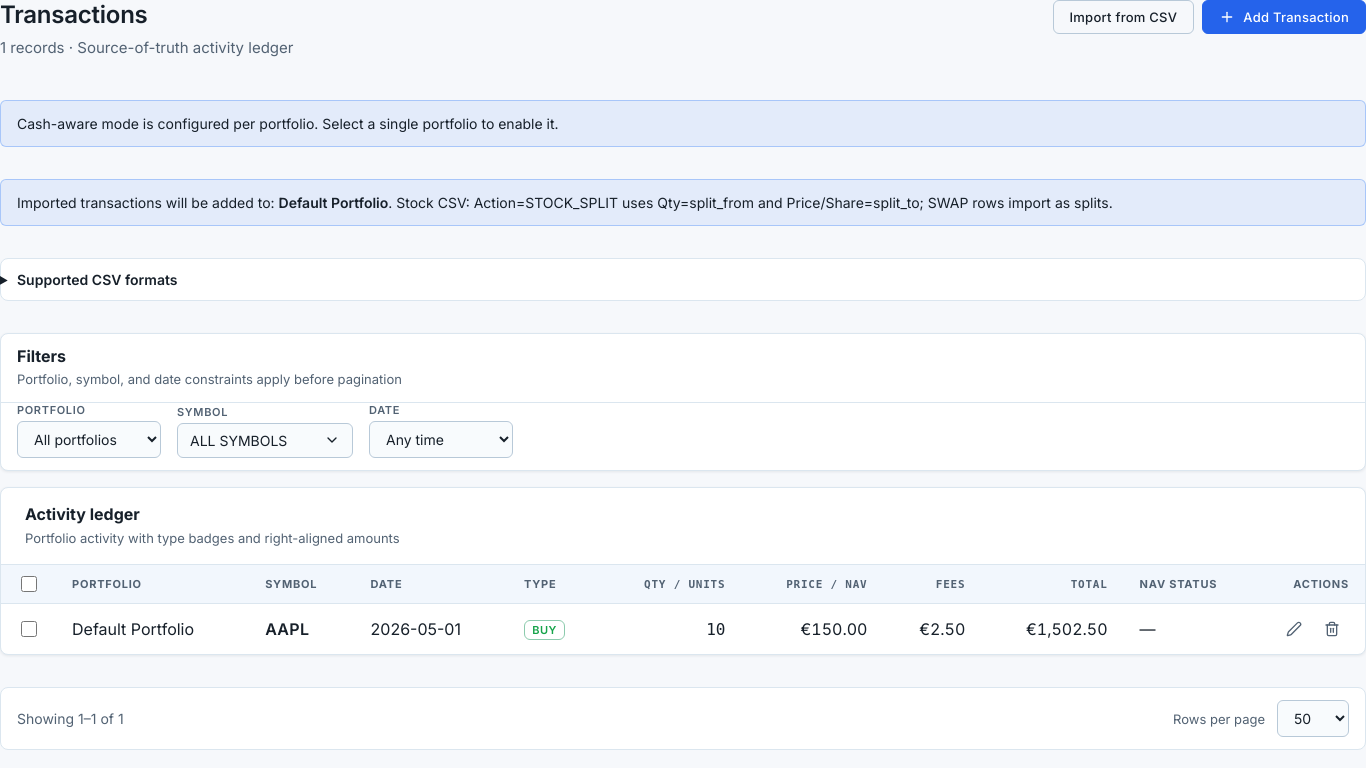
Test: Transactions Page › opens add transaction modal on button click
Expected: the text "AAPL" is shown, [265, 619, 309, 639]
Click the button "Add Transaction".
click(1284, 17)  # box [1202, 0, 1365, 34]
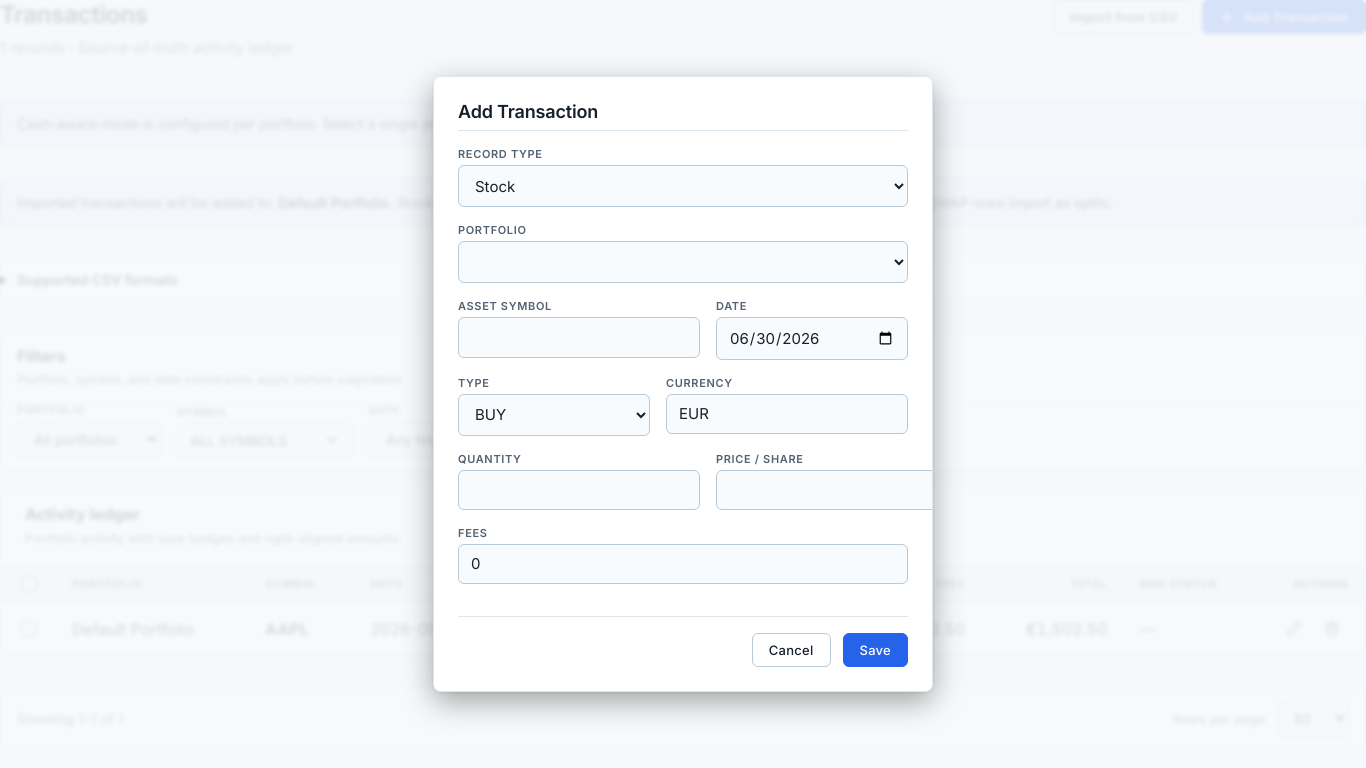
Expected: the heading "Add Transaction" is shown, [458, 101, 908, 131]
